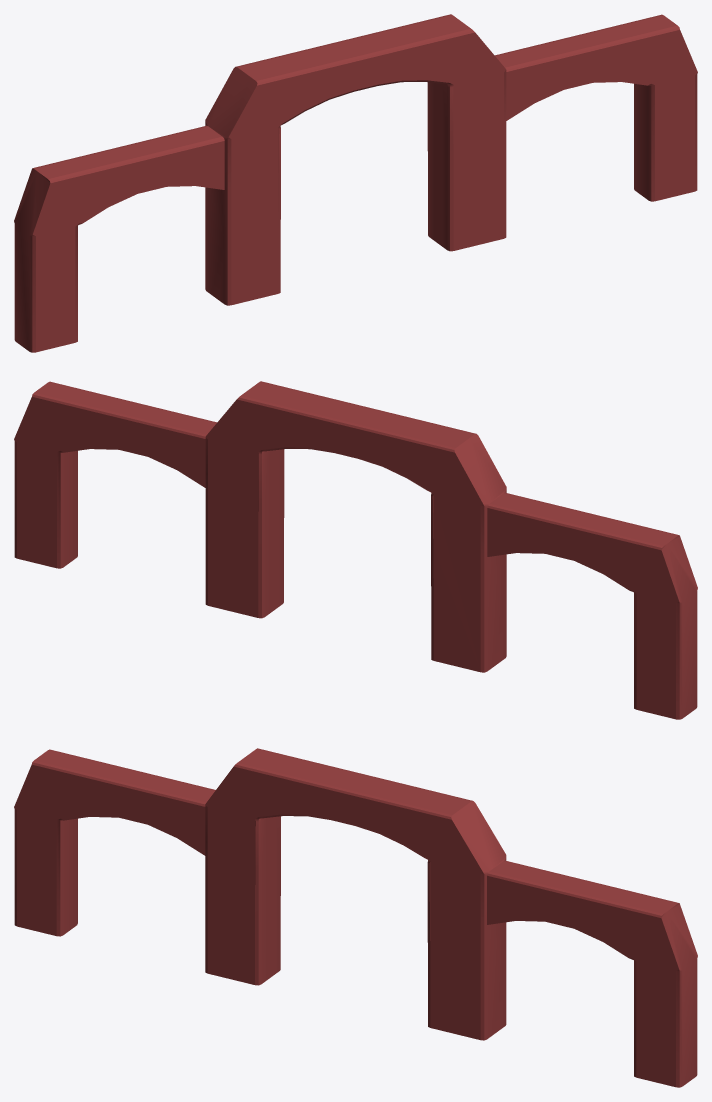
Rendered from Ruins 5.fbx.
The picture shows the model from 3 angles, top to bottom: view 1: azimuth 30°, elevation 25°; view 2: azimuth 150°, elevation 25°; view 3: azimuth 330°, elevation 25°; orthographic projection.
Parts seen in each view (by area): view 1: Ruins 5; view 2: Ruins 5; view 3: Ruins 5.
Boxes of the visible parts, x1=… form: Ruins 5: x1=14, y1=14, x2=697, y2=352; Ruins 5: x1=14, y1=381, x2=697, y2=719; Ruins 5: x1=14, y1=748, x2=697, y2=1087.
Bounding box in the file's own units: 165 × 51.34 × 10.12.
Materials: 1 (1 with a texture image).
